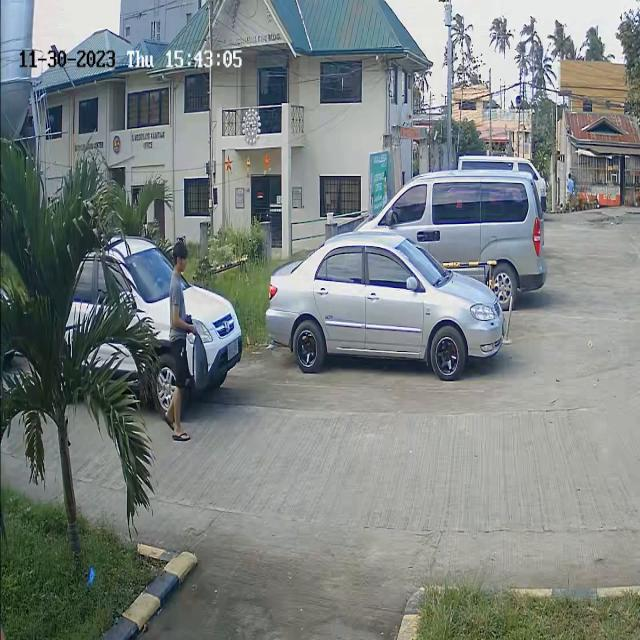person: (164, 240, 192, 331)
